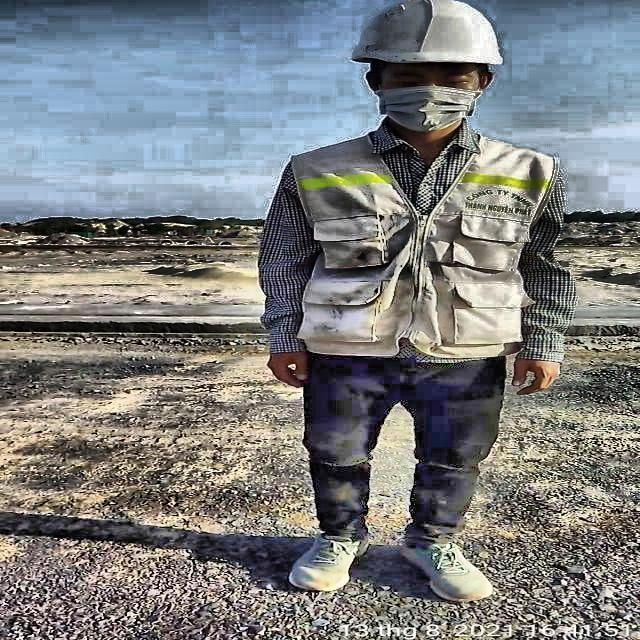safety_jacket: (282, 122, 571, 363)
